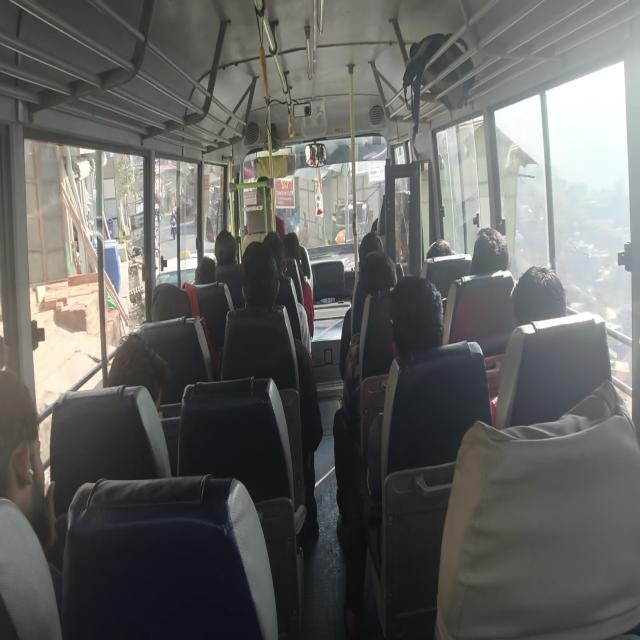person: (434, 378, 639, 638), (337, 274, 444, 634), (221, 240, 323, 542), (366, 275, 444, 499), (0, 367, 63, 638), (489, 264, 567, 424), (443, 226, 511, 345), (339, 232, 384, 380), (262, 231, 312, 358), (107, 332, 170, 414), (390, 275, 444, 354), (511, 264, 567, 327), (214, 230, 244, 310), (469, 226, 509, 275), (150, 282, 192, 322), (214, 230, 237, 266), (194, 255, 216, 285), (426, 238, 454, 259)
